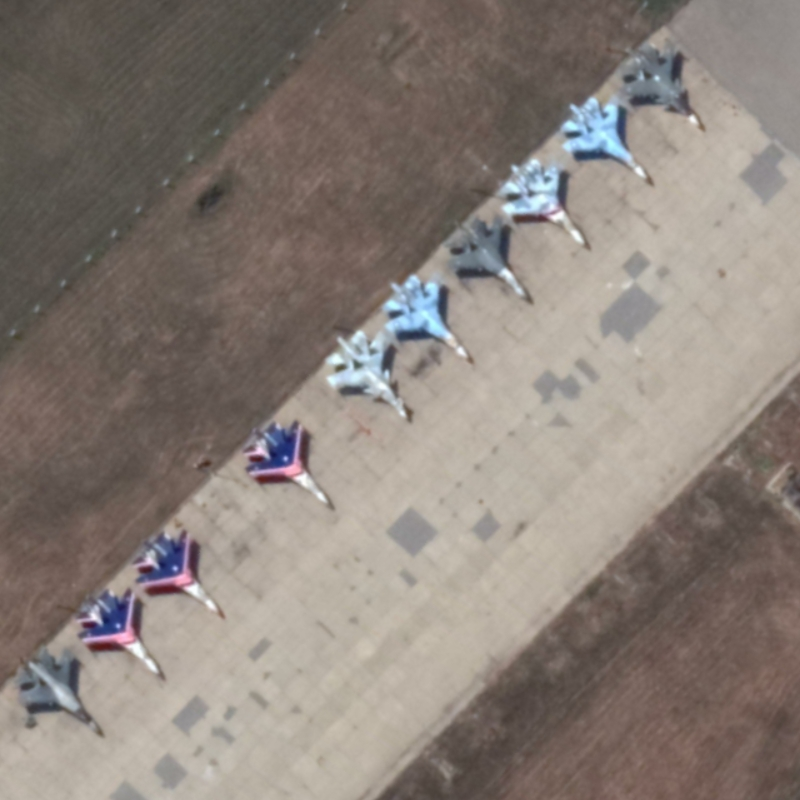A1: (12, 643, 103, 735), (498, 156, 588, 247), (73, 585, 163, 676), (380, 272, 472, 361), (559, 93, 651, 181), (241, 418, 332, 506), (130, 527, 222, 614), (442, 212, 531, 299)
A19: (322, 328, 410, 420), (615, 38, 703, 129)
